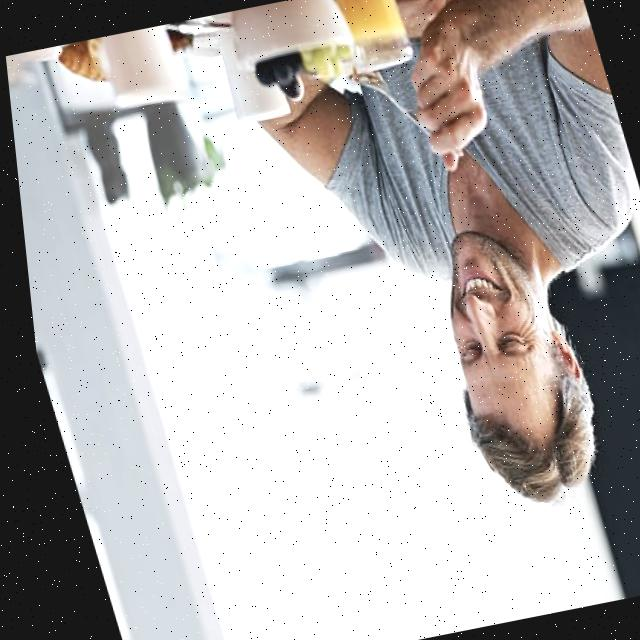eating-person: (37, 0, 640, 534)
